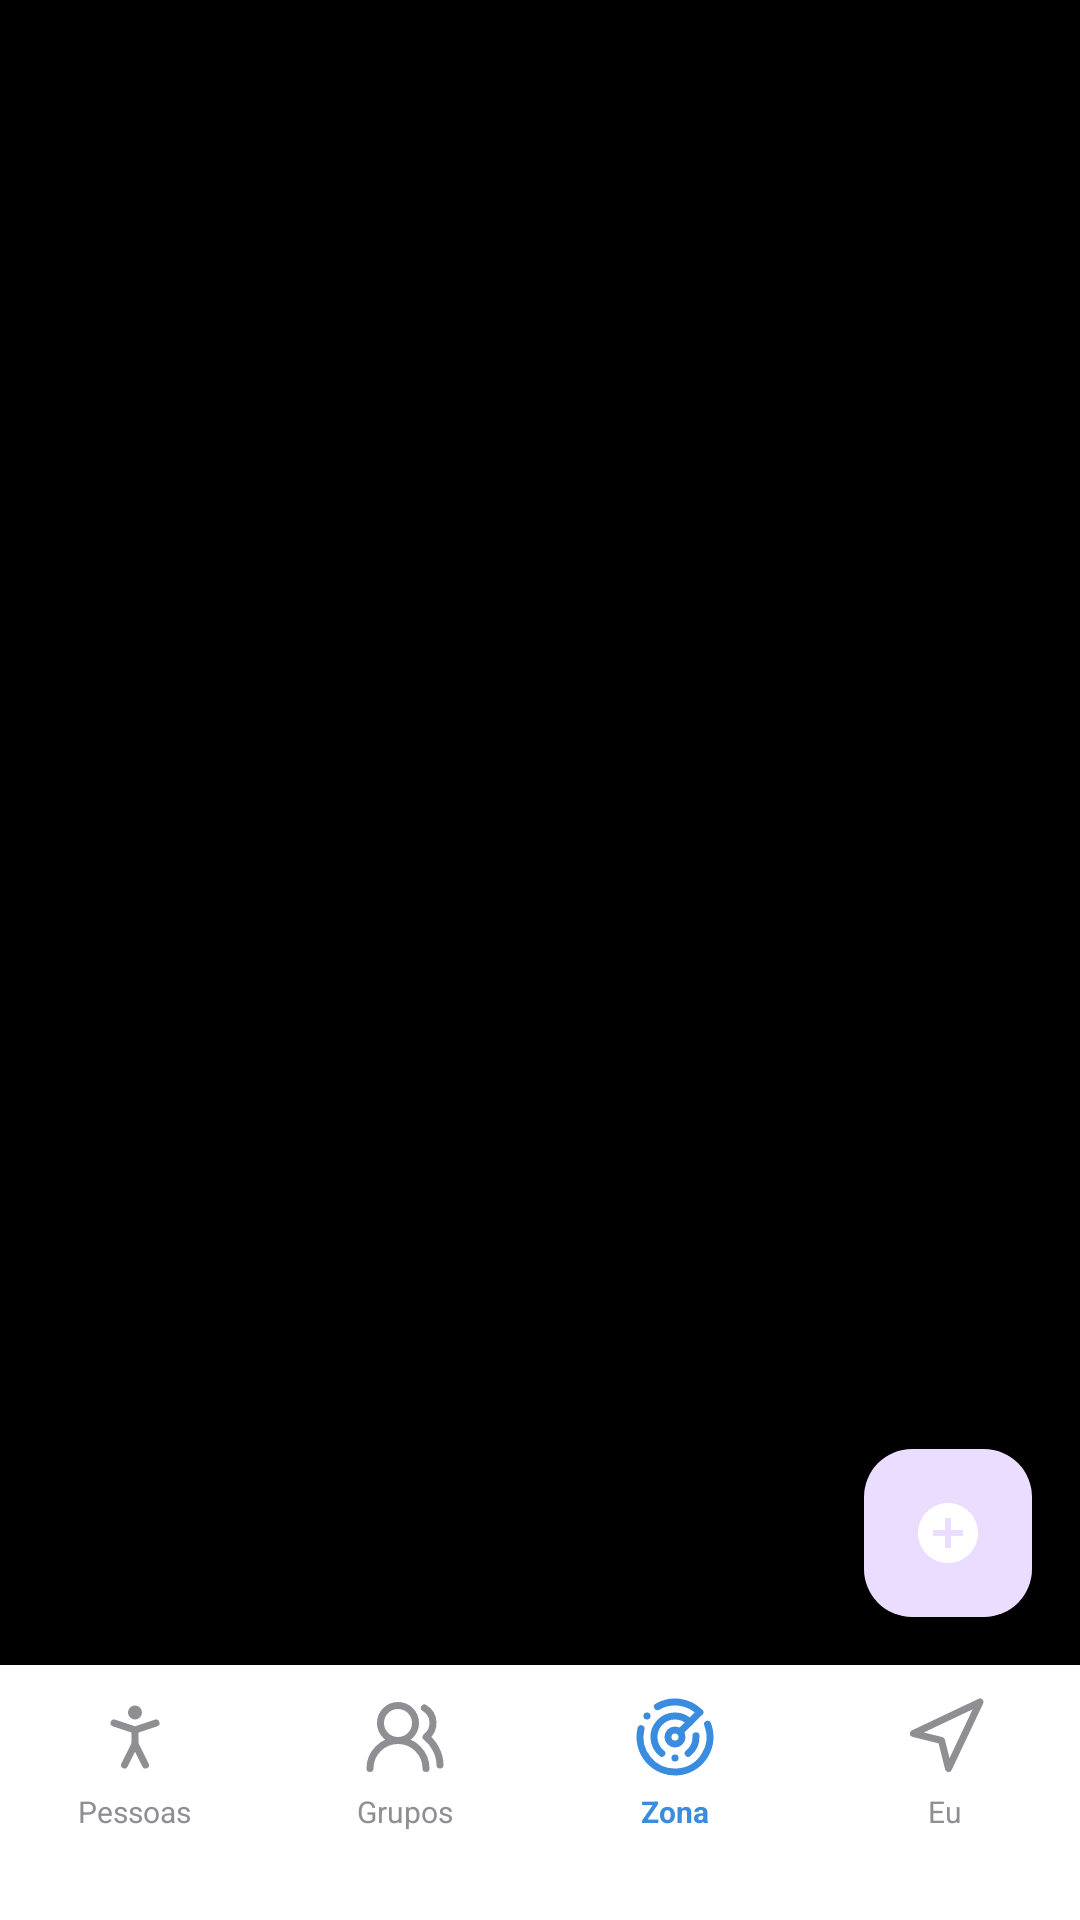

Locate icon controls on the screen. Image size 1080 x 1920, boxes as {"x1": x1, "y1": y1, "x2": x2, "y2": y2}.
add circle: {"x1": 864, "y1": 1449, "x2": 1032, "y2": 1617}
